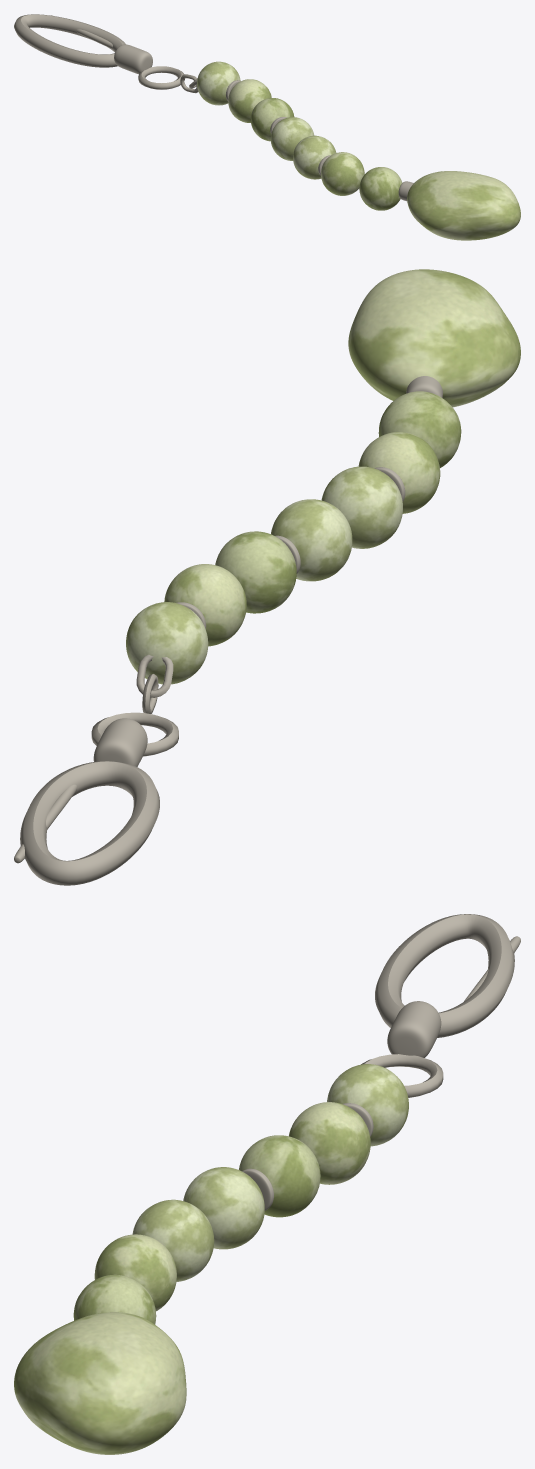
The model's file is standard.glb.
3 views of the same model, one above another, from view 1: azimuth 30°, elevation 25°; view 2: azimuth 150°, elevation 25°; view 3: azimuth 330°, elevation 25° (orthographic). The views are drawn at different scales.
Visible parts, largest first — view 1: bead_pebble_1, hak.005, bead_round_2.001, bead_round_0.002, bead_round_0, bead_round_1.001, bead_round_1, bead_round_0.001, bead_round_2, bead_peg_0.004, kolko.031; view 2: bead_pebble_1, hak.005, bead_round_0, bead_round_0.001, bead_round_1.001, bead_round_2, bead_round_1, bead_round_2.001, bead_round_0.002, bead_peg_0.004, kolko.031, ogniwo.001; view 3: bead_pebble_1, hak.005, bead_round_0.001, bead_round_1, bead_round_2, bead_round_1.001, bead_round_0, bead_round_2.001, bead_round_0.002, bead_peg_0.004, kolko.031.
Part boxes in pixels (x1,y1,x2,y2): bead_pebble_1: (407, 171, 520, 240); hak.005: (14, 14, 125, 67); bead_round_2.001: (321, 152, 364, 195); bead_round_0.002: (359, 167, 402, 210); bead_round_0: (197, 61, 240, 105); bead_round_1.001: (293, 135, 336, 179); bead_round_1: (228, 79, 271, 122); bead_round_0.001: (270, 117, 314, 160); bead_round_2: (250, 98, 294, 141); bead_peg_0.004: (114, 44, 152, 74); kolko.031: (138, 66, 184, 89); bead_pebble_1: (348, 269, 520, 407); hak.005: (20, 761, 159, 885); bead_round_0: (126, 602, 208, 684); bead_round_0.001: (271, 499, 352, 581); bead_round_1.001: (321, 466, 402, 548); bead_round_2: (215, 531, 296, 613); bead_round_1: (164, 564, 246, 646); bead_round_2.001: (358, 432, 440, 513); bead_round_0.002: (378, 391, 461, 467); bead_peg_0.004: (93, 718, 147, 766); kolko.031: (91, 712, 178, 756); ogniwo.001: (136, 654, 173, 697); bead_pebble_1: (14, 1312, 186, 1454); hak.005: (375, 914, 514, 1037); bead_round_0.001: (183, 1167, 264, 1249); bead_round_1: (289, 1102, 370, 1184); bead_round_2: (239, 1135, 320, 1217); bead_round_1.001: (132, 1199, 214, 1281); bead_round_0: (327, 1064, 408, 1146); bead_round_2.001: (94, 1234, 176, 1311); bead_round_0.002: (73, 1274, 156, 1324); bead_peg_0.004: (387, 1001, 441, 1057); kolko.031: (361, 1054, 443, 1097).
Size of the model in its own units: 3.42 by 0.9879 by 11.51.
4 materials, 3 textured.
